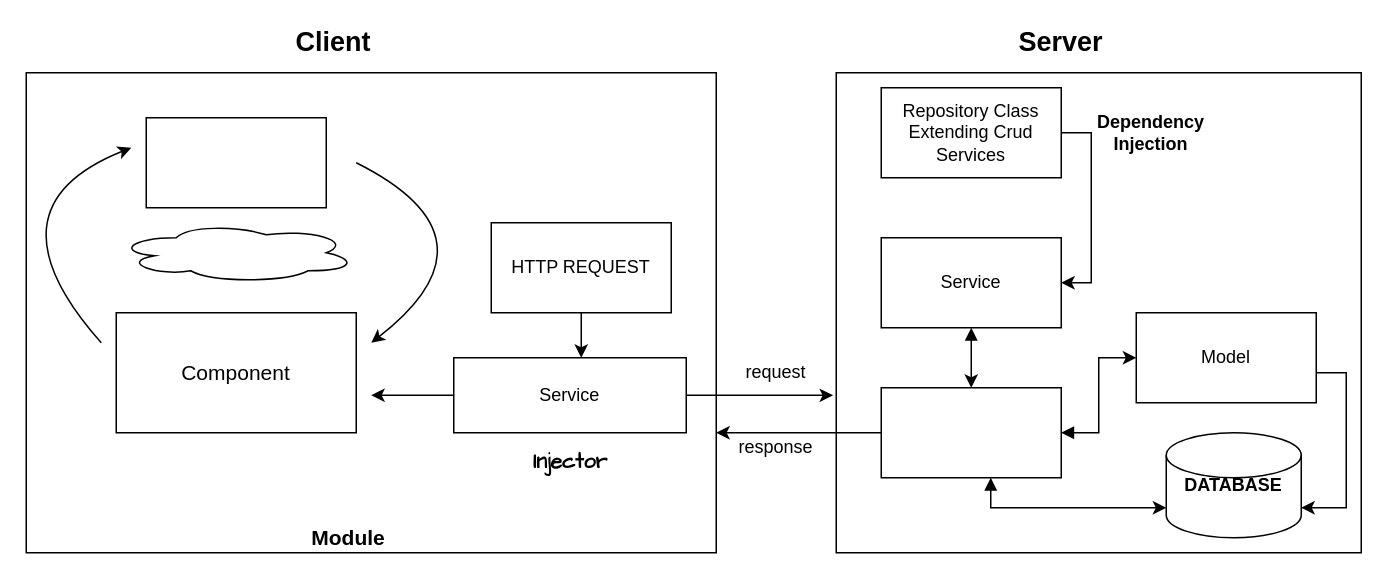
The diagram is 1388 pixels wide and 579 high, and some of its shapes have lost their labels. The shapes that lost their labels are listed below. From the top down, each one's box as (x1, y1, x2, y2) in pixels, then its label:
(145, 116, 326, 208): Template
(115, 221, 356, 283): Metadata
(880, 386, 1061, 478): Controller
